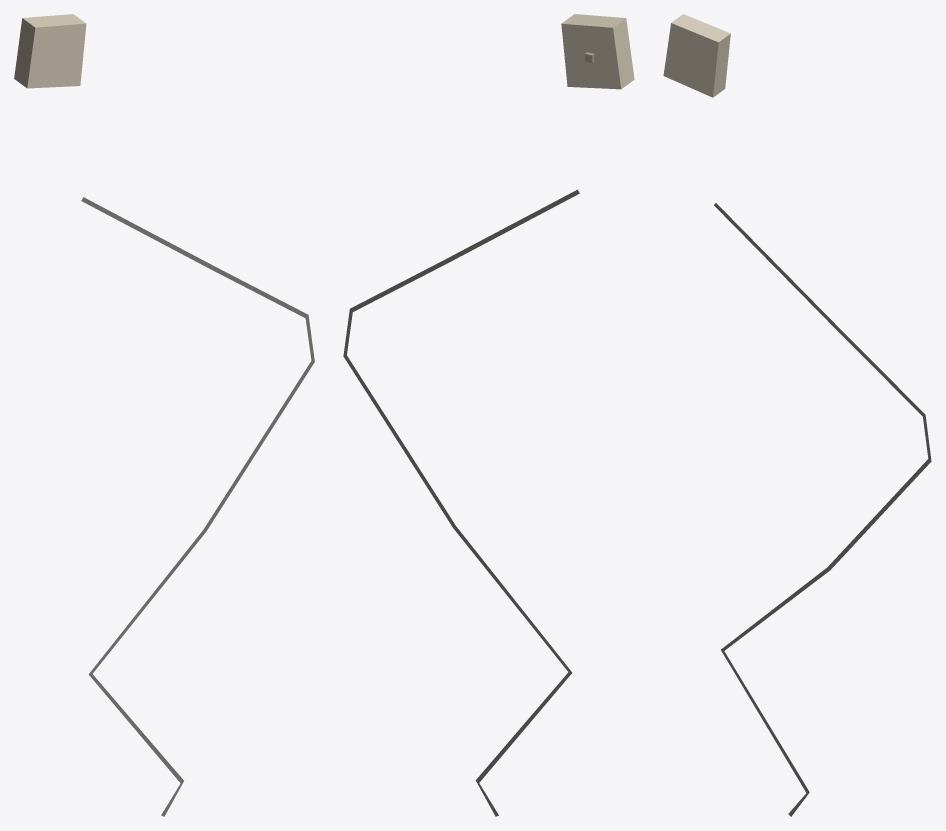
File: historic-palestine-15_35_3566_3290.glb
The picture shows the model from 3 angles, left to right: view 1: azimuth 30°, elevation 25°; view 2: azimuth 150°, elevation 25°; view 3: azimuth 330°, elevation 25°; orthographic projection. The views are drawn at different scales.
Visible parts, largest first — view 1: Building_, Road; view 2: Building_, Road; view 3: Building_, Road.
Boxes of the visible parts, bbox=[...] form: Building_: bbox=[14, 14, 86, 88]; Road: bbox=[81, 197, 314, 816]; Building_: bbox=[561, 14, 634, 89]; Road: bbox=[343, 189, 579, 816]; Building_: bbox=[663, 14, 730, 97]; Road: bbox=[714, 203, 931, 816].
Size of the model in its own units: 94.75 by 258 by 8.7.
